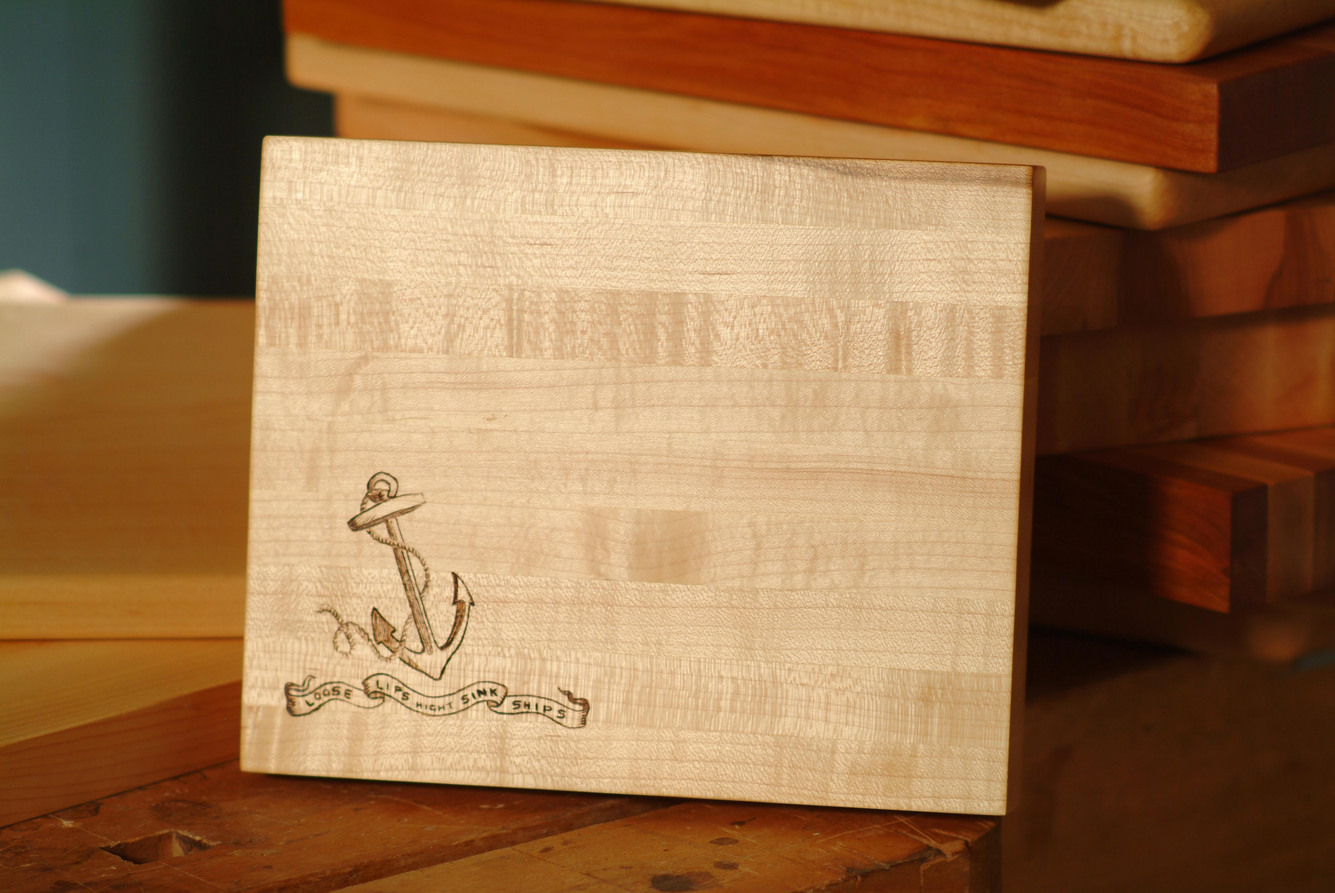gloved_hand: (217, 117, 1068, 841)
